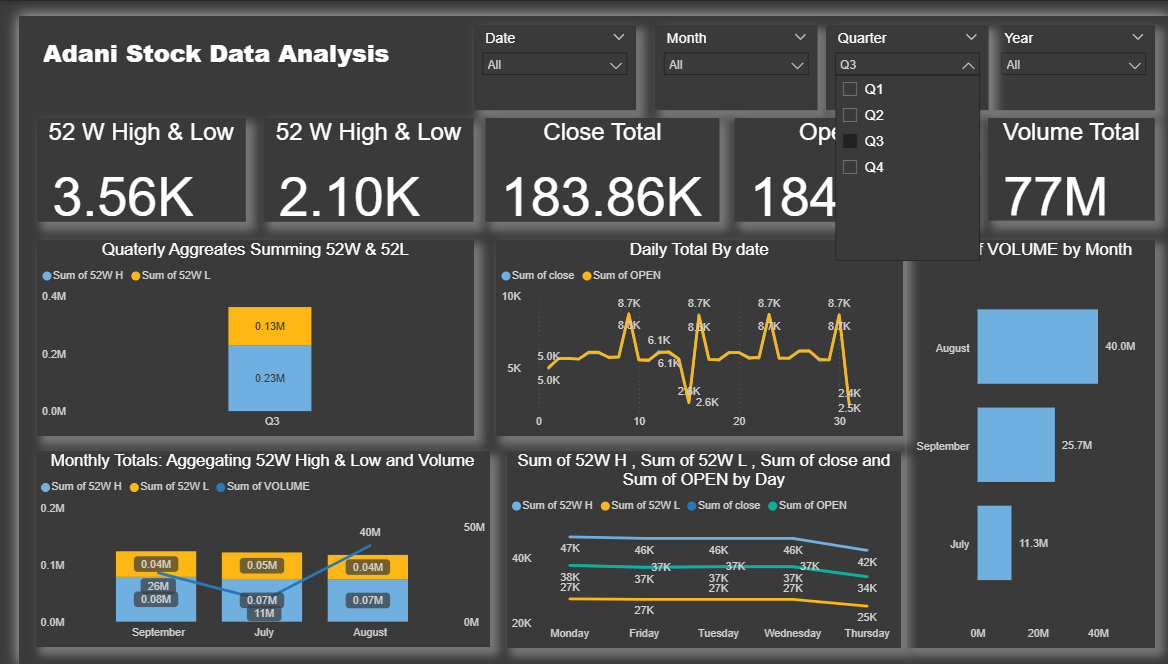

The dashboard page shown, as its layout file describes it:
{"tool":"powerbi","page":{"name":"Page 1","canvas":[1280,720],"ordinal":0},"visuals":[{"type":"slicer","fields":{"Values":["Quote-Equity-ADANIENT-EQ-03-08-2024-to-03-08-2025.Date "]},"box":[504.2,9.8,180.5,94.3],"z":0},{"type":"slicer","fields":{"Values":["Quote-Equity-ADANIENT-EQ-03-08-2024-to-03-08-2025.Month"]},"box":[705.9,9.8,180.5,94.3],"z":1000},{"type":"slicer","fields":{"Values":["Quote-Equity-ADANIENT-EQ-03-08-2024-to-03-08-2025.Year"]},"box":[1081.7,9.8,180.5,94.3],"z":2000},{"type":"slicer","fields":{"Values":["Quote-Equity-ADANIENT-EQ-03-08-2024-to-03-08-2025.Quarter"]},"box":[896.2,9.8,180.5,94.3],"z":3000},{"type":"cardVisual","title":"52 W High  & Low","fields":{"Data":["Avg(Quote-Equity-ADANIENT-EQ-03-08-2024-to-03-08-2025.52W H )"]},"box":[20,113.3,231.7,115],"z":4000},{"type":"cardVisual","title":"52 W High  & Low","fields":{"Data":["Avg(Quote-Equity-ADANIENT-EQ-03-08-2024-to-03-08-2025.52W L )"]},"box":[271.7,113.3,233.3,115],"z":5000},{"type":"cardVisual","title":"Close Total","fields":{"Data":["Sum(Quote-Equity-ADANIENT-EQ-03-08-2024-to-03-08-2025.close )"]},"box":[518.3,113.3,260,115],"z":6000},{"type":"cardVisual","title":"OpenTotal","fields":{"Data":["Sum(Quote-Equity-ADANIENT-EQ-03-08-2024-to-03-08-2025.OPEN )"]},"box":[795,113.3,265,115],"z":7000},{"type":"cardVisual","title":"Volume Total","fields":{"Data":["Sum(Quote-Equity-ADANIENT-EQ-03-08-2024-to-03-08-2025.VOLUME )"]},"box":[1076.8,113.9,185.4,113.9],"z":8000},{"type":"columnChart","title":"Quaterly Aggreates  Summing 52W & 52L","fields":{"Category":["Quote-Equity-ADANIENT-EQ-03-08-2024-to-03-08-2025.Quarter"],"Y":["Sum(Quote-Equity-ADANIENT-EQ-03-08-2024-to-03-08-2025.52W H )","Sum(Quote-Equity-ADANIENT-EQ-03-08-2024-to-03-08-2025.52W L )"]},"box":[20,248.3,485,218.3],"z":9000},{"type":"lineStackedColumnComboChart","title":"Monthly Totals: Aggegating 52W High & Low and Volume","fields":{"Y":["Sum(Quote-Equity-ADANIENT-EQ-03-08-2024-to-03-08-2025.52W H )","Sum(Quote-Equity-ADANIENT-EQ-03-08-2024-to-03-08-2025.52W L )"],"Category":["Quote-Equity-ADANIENT-EQ-03-08-2024-to-03-08-2025.Month"],"Y2":["Sum(Quote-Equity-ADANIENT-EQ-03-08-2024-to-03-08-2025.VOLUME )"]},"box":[18.9,483.8,504.6,217.3],"z":10000},{"type":"lineChart","title":"Daily Total By date","fields":{"Category":["Quote-Equity-ADANIENT-EQ-03-08-2024-to-03-08-2025.Date .Variation.Date Hierarchy.Day"],"Y":["Sum(Quote-Equity-ADANIENT-EQ-03-08-2024-to-03-08-2025.close )","Sum(Quote-Equity-ADANIENT-EQ-03-08-2024-to-03-08-2025.OPEN )"]},"box":[530,248.3,451.7,218.3],"z":11000},{"type":"lineChart","fields":{"Y":["Sum(Quote-Equity-ADANIENT-EQ-03-08-2024-to-03-08-2025.52W H )","Sum(Quote-Equity-ADANIENT-EQ-03-08-2024-to-03-08-2025.52W L )","Sum(Quote-Equity-ADANIENT-EQ-03-08-2024-to-03-08-2025.close )","Sum(Quote-Equity-ADANIENT-EQ-03-08-2024-to-03-08-2025.OPEN )"],"Category":["Quote-Equity-ADANIENT-EQ-03-08-2024-to-03-08-2025.Day"]},"box":[541.7,483.3,438.3,218.3],"z":12000},{"type":"clusteredBarChart","fields":{"Category":["Quote-Equity-ADANIENT-EQ-03-08-2024-to-03-08-2025.Month"],"Y":["Sum(Quote-Equity-ADANIENT-EQ-03-08-2024-to-03-08-2025.VOLUME )"]},"box":[986.7,248.3,275,453.3],"z":13000},{"type":"textbox","box":[21.1,16.3,461.9,65.1],"z":14000}]}

Visuals, with their boxes in screenshot pixels (x1, y1, x2, y2), scaled from the page's 1280x720 canvas onto the 1168x664 screenshot:
slicer - Quote-Equity-ADANIENT-EQ-03-08-2024-to-03-08-2025.Date : <box>460,9,625,96</box>
slicer - Quote-Equity-ADANIENT-EQ-03-08-2024-to-03-08-2025.Month: <box>644,9,809,96</box>
slicer - Quote-Equity-ADANIENT-EQ-03-08-2024-to-03-08-2025.Year: <box>987,9,1152,96</box>
slicer - Quote-Equity-ADANIENT-EQ-03-08-2024-to-03-08-2025.Quarter: <box>818,9,982,96</box>
"52 W High  & Low" cardVisual: <box>18,104,230,211</box>
"52 W High  & Low" cardVisual: <box>248,104,461,211</box>
"Close Total" cardVisual: <box>473,104,710,211</box>
"OpenTotal" cardVisual: <box>725,104,967,211</box>
"Volume Total" cardVisual: <box>983,105,1152,210</box>
"Quaterly Aggreates  Summing 52W & 52L" columnChart: <box>18,229,461,430</box>
"Monthly Totals: Aggegating 52W High & Low and Volume" lineStackedColumnComboChart: <box>17,446,478,647</box>
"Daily Total By date" lineChart: <box>484,229,896,430</box>
lineChart - Sum(Quote-Equity-ADANIENT-EQ-03-08-2024-to-03-08-2025.52W H ) x Sum(Quote-Equity-ADANIENT-EQ-03-08-2024-to-03-08-2025.52W L ): <box>494,446,894,647</box>
clusteredBarChart - Quote-Equity-ADANIENT-EQ-03-08-2024-to-03-08-2025.Month x Sum(Quote-Equity-ADANIENT-EQ-03-08-2024-to-03-08-2025.VOLUME ): <box>900,229,1151,647</box>
textbox: <box>19,15,441,75</box>
